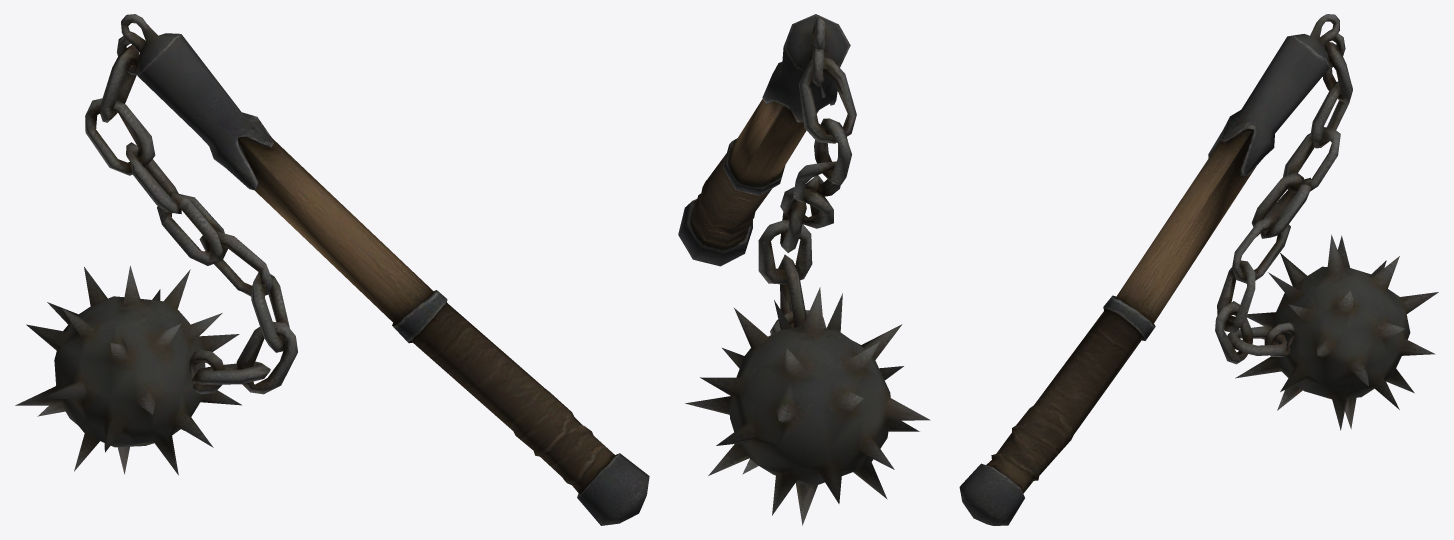
File: gear_warden_flail.glb
The picture shows the model from 3 angles, left to right: view 1: azimuth 30°, elevation 25°; view 2: azimuth 150°, elevation 25°; view 3: azimuth 270°, elevation 25°; orthographic projection. The views are drawn at different scales.
Parts seen in each view (by area): view 1: tripo_node_8b640d8f-407d-49ca-a4e8-82938aa92cad; view 2: tripo_node_8b640d8f-407d-49ca-a4e8-82938aa92cad; view 3: tripo_node_8b640d8f-407d-49ca-a4e8-82938aa92cad.
Boxes of the visible parts, left/top/right/bottom form: tripo_node_8b640d8f-407d-49ca-a4e8-82938aa92cad: left=15, top=14, right=649, bottom=525; tripo_node_8b640d8f-407d-49ca-a4e8-82938aa92cad: left=678, top=14, right=930, bottom=525; tripo_node_8b640d8f-407d-49ca-a4e8-82938aa92cad: left=959, top=14, right=1438, bottom=525.
Size of the model in its own units: 0.8925 by 0.9511 by 0.998.
Materials: 1 (1 with a texture image).
